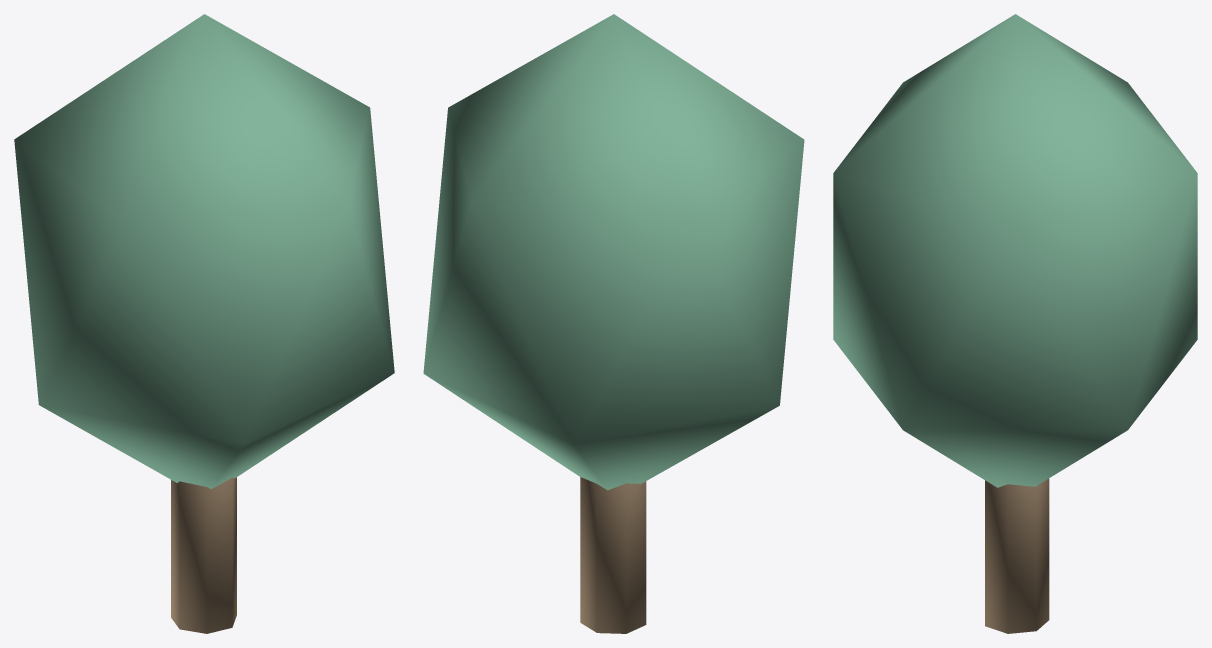
File: STREET_TREE.fbx
The picture shows the model from 3 angles, left to right: view 1: azimuth 30°, elevation 25°; view 2: azimuth 150°, elevation 25°; view 3: azimuth 270°, elevation 25°; orthographic projection.
Parts seen in each view (by area): view 1: UNITY_ASSET_STREET_TREE; view 2: UNITY_ASSET_STREET_TREE; view 3: UNITY_ASSET_STREET_TREE.
Part boxes in pixels (x1,y1,x2,y2): UNITY_ASSET_STREET_TREE: (14, 14, 394, 633); UNITY_ASSET_STREET_TREE: (423, 14, 804, 633); UNITY_ASSET_STREET_TREE: (833, 14, 1197, 633).
Size of the model in its own units: 2.72 by 4.75 by 2.59.
